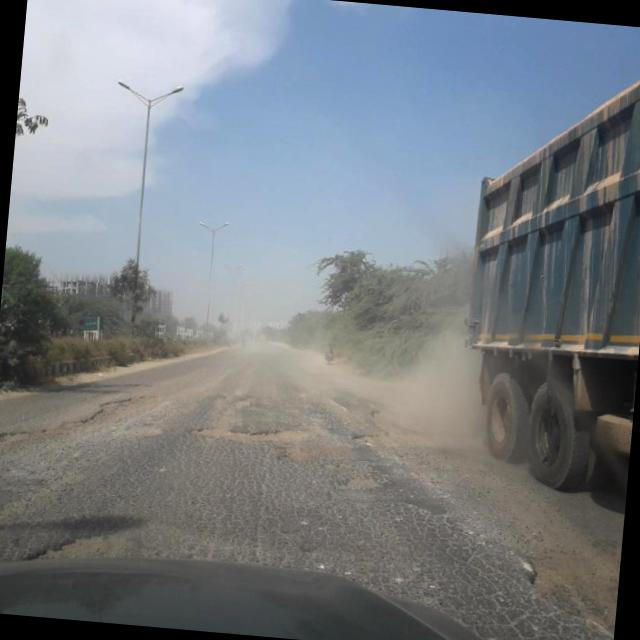crack: (0, 384, 605, 616)
pothole: (0, 375, 170, 479), (190, 398, 334, 455), (24, 504, 138, 565), (349, 396, 453, 456), (513, 553, 591, 609), (330, 460, 400, 500)
